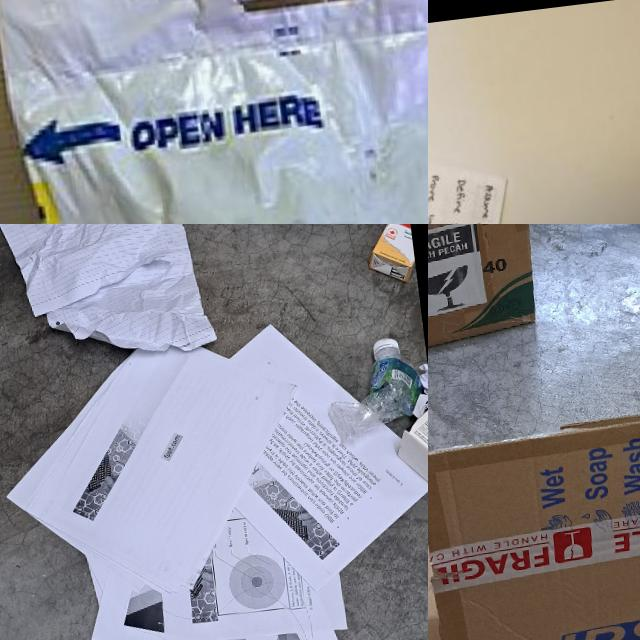caixinha: (360, 224, 416, 287)
garrafa plástica: (320, 346, 426, 444)
papel: (0, 302, 428, 640), (0, 224, 216, 370), (428, 80, 536, 224)
papelão: (428, 387, 640, 640), (428, 224, 544, 359)
sacola plástica: (0, 0, 428, 224)
tampa plástica: (372, 337, 400, 357)
